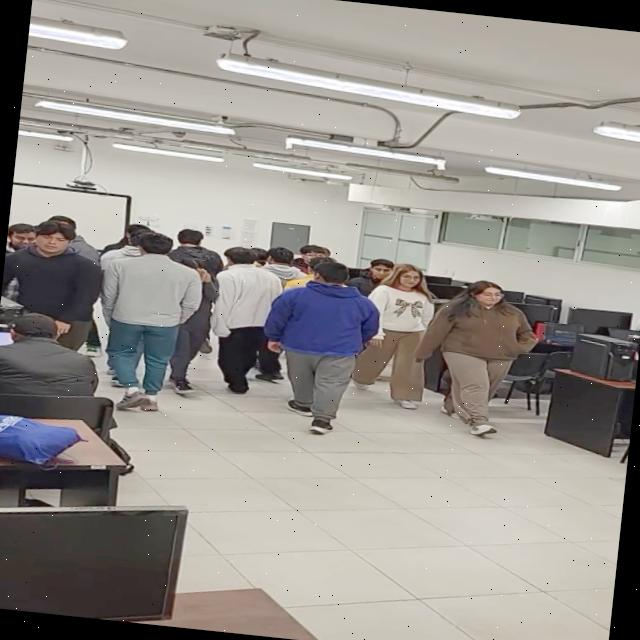Persona: (431, 276, 536, 422), (276, 258, 369, 422), (104, 230, 180, 394), (355, 257, 438, 394), (204, 246, 266, 404), (8, 222, 96, 322)
